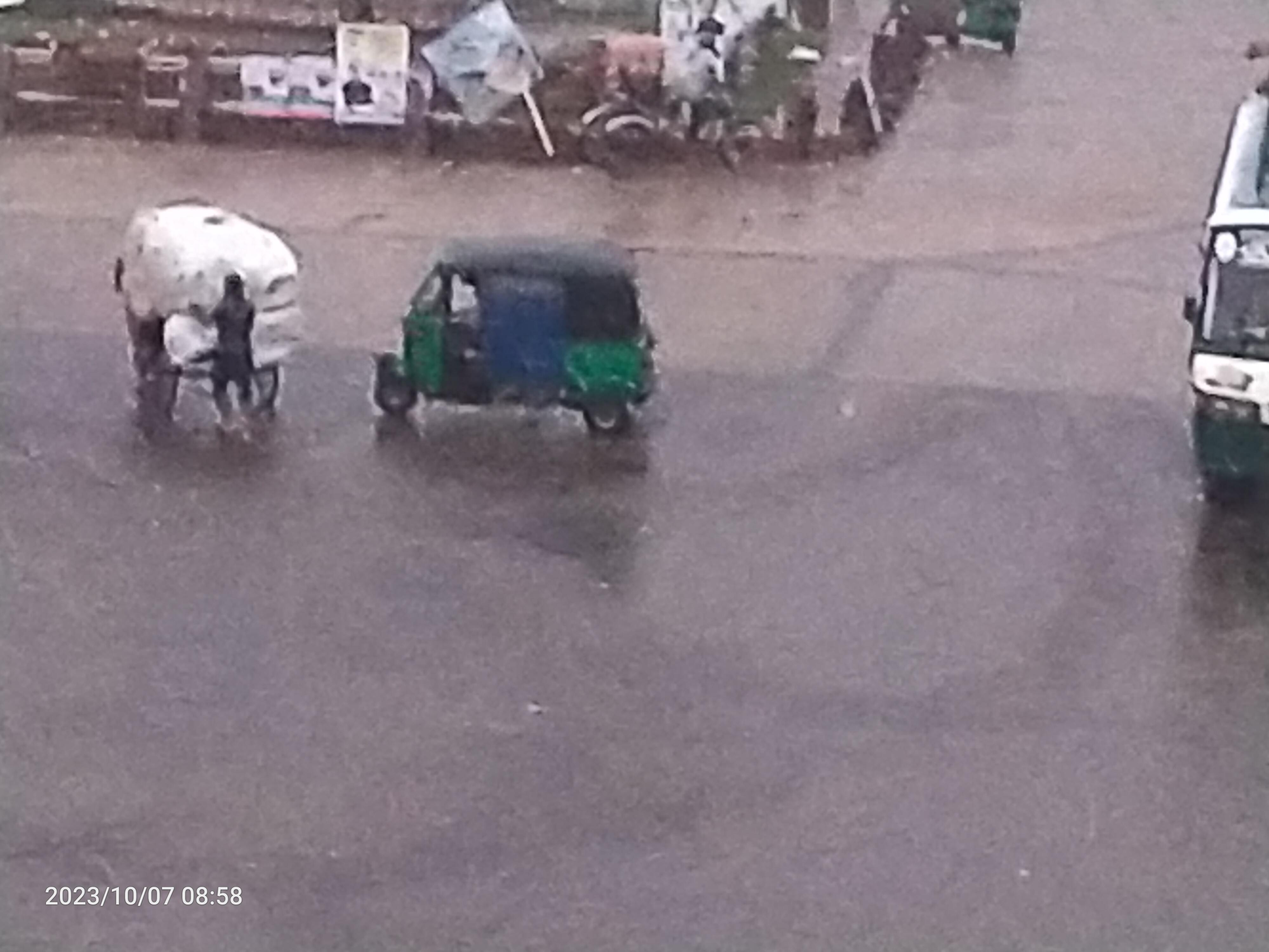Bus: (1118, 56, 1269, 539)
